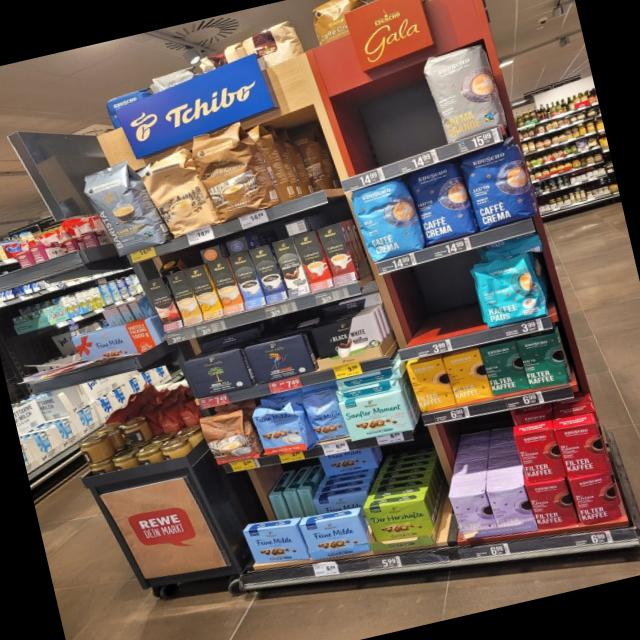BM Gemahlen: (182, 348, 255, 400)
BW Gemahlen: (309, 311, 387, 369)
Barista CC: (74, 155, 176, 259)
CC Mild: (131, 142, 224, 240)
CC Vollmundig: (197, 402, 266, 472)
CC Vollmundig 36 Pads: (183, 116, 283, 225)
FM 36 Pads: (248, 399, 320, 457)
FM Bohne: (299, 385, 350, 443)
FM Gemahlen: (298, 513, 371, 561), (241, 523, 311, 564), (317, 447, 378, 476)
Herzhatfe Mundig: (363, 497, 436, 546)
LG Gemahlen: (242, 332, 317, 385)
SM Gemahlen: (337, 387, 415, 442)
Simo CC Colombia: (140, 276, 186, 333)
Simo CCMild bigpack: (183, 263, 225, 322)
Simo CCVollmundig: (204, 255, 245, 318)
Simo Decaff: (164, 269, 204, 327)
Simo Es Elegant: (292, 229, 335, 294)
Simo Kaffee BW: (269, 235, 312, 298)
Simo Kaffee Kraft: (315, 221, 361, 287), (247, 243, 289, 305)
Simo Kaffee Mild: (227, 250, 267, 311)
